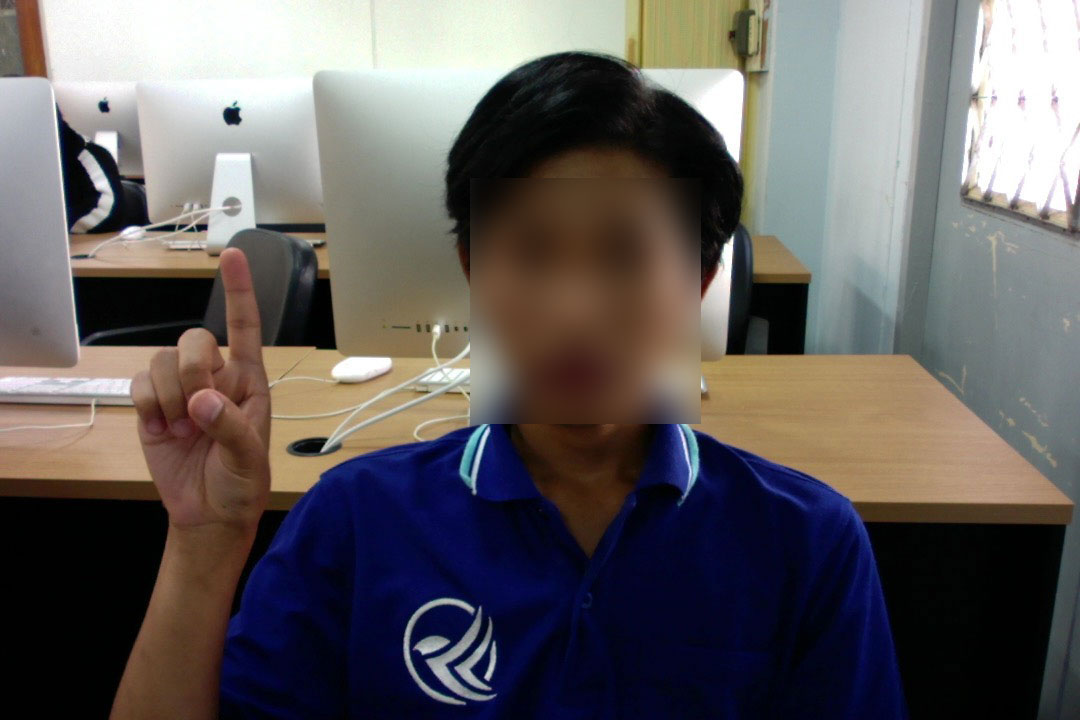dor: (127, 239, 277, 549)
